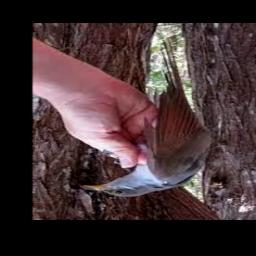Cuckoo: (81, 39, 211, 197)
